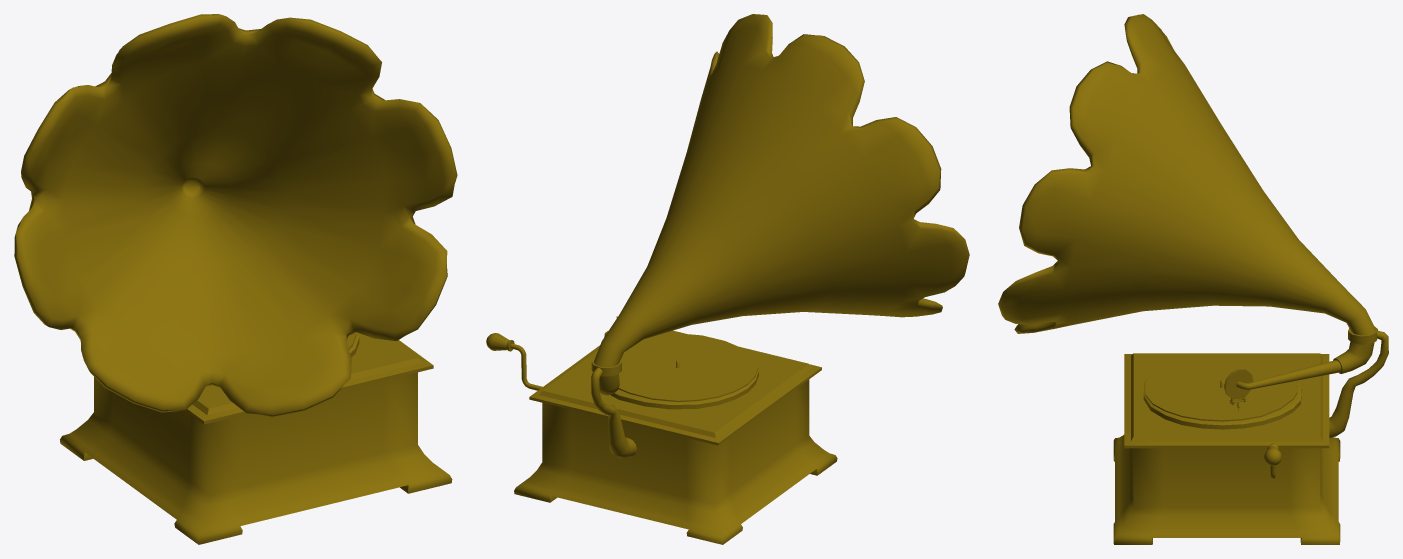
Rendered from grammophone_low.fbx.
3 renders of one model, left to right at view 1: azimuth 30°, elevation 25°; view 2: azimuth 150°, elevation 25°; view 3: azimuth 270°, elevation 25°, orthographic. The views are drawn at different scales.
Parts seen in each view (by area): view 1: Grammophone_low; view 2: Grammophone_low; view 3: Grammophone_low.
Boxes of the visible parts, x1=… form: Grammophone_low: x1=14, y1=14, x2=457, y2=544; Grammophone_low: x1=486, y1=14, x2=969, y2=544; Grammophone_low: x1=998, y1=14, x2=1388, y2=544.
Size of the model in its own units: 73.56 by 73.85 by 61.5.
